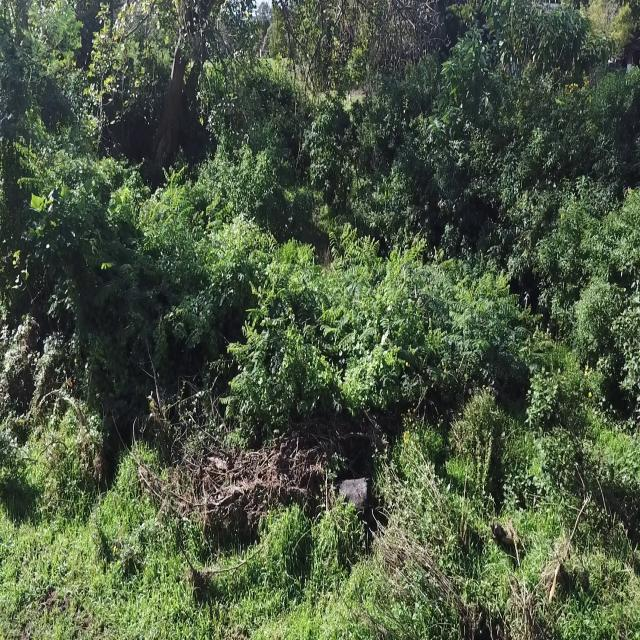Mysore-Thorn-Weed: (228, 258, 328, 447), (350, 251, 428, 410), (446, 263, 500, 391), (181, 196, 235, 277), (151, 161, 186, 248), (105, 184, 141, 230)
